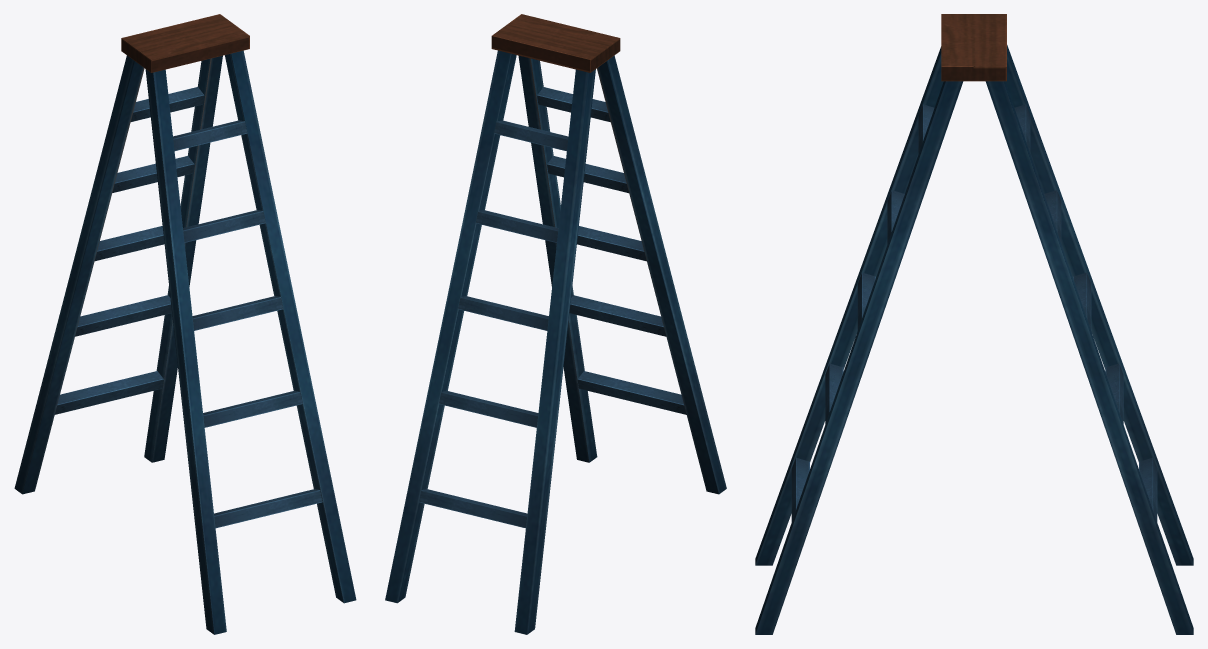
The model's file is BaoLuoGongZuoShi_01_renziti_01.FBX.
3 views of the same model, side by side, from view 1: azimuth 30°, elevation 25°; view 2: azimuth 150°, elevation 25°; view 3: azimuth 270°, elevation 25° (orthographic). The views are drawn at different scales.
Visible parts, largest first — view 1: BaoLuoGongZuoShi_01_renziti_01; view 2: BaoLuoGongZuoShi_01_renziti_01; view 3: BaoLuoGongZuoShi_01_renziti_01.
Boxes of the visible parts, <box> form: BaoLuoGongZuoShi_01_renziti_01: <box>14,14,356,634</box>; BaoLuoGongZuoShi_01_renziti_01: <box>385,14,726,634</box>; BaoLuoGongZuoShi_01_renziti_01: <box>755,14,1193,634</box>.
Size of the model in its own units: 283 by 966 by 689.
